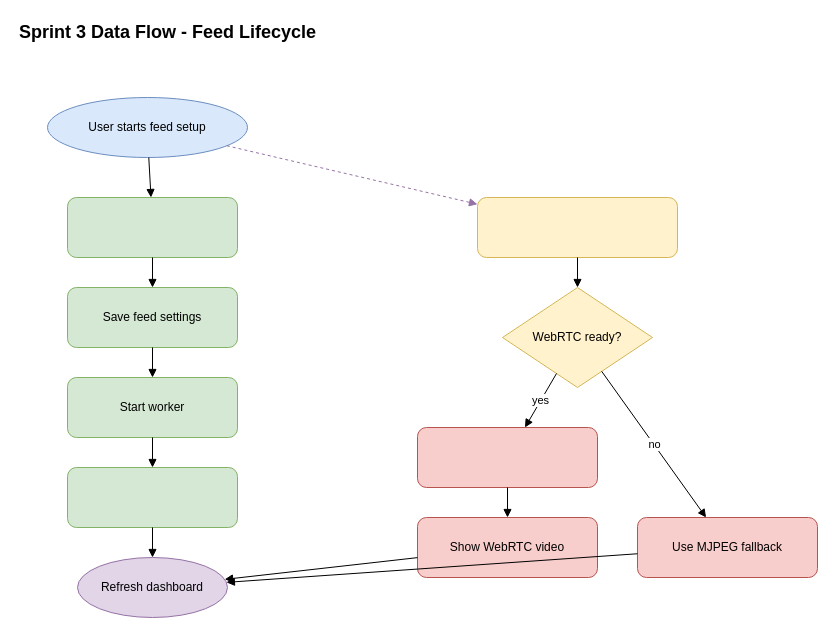
Image size: 835x635. Some labels were removed from this diagram. The box of each missing label's shape, as (x1, y1, x2, y2) in pixels:
Check transport readiness: (476, 196, 678, 258)
Emit live events: (66, 466, 238, 528)
Exchange offer and answer: (416, 426, 598, 488)
Send setup request: (66, 196, 238, 258)
